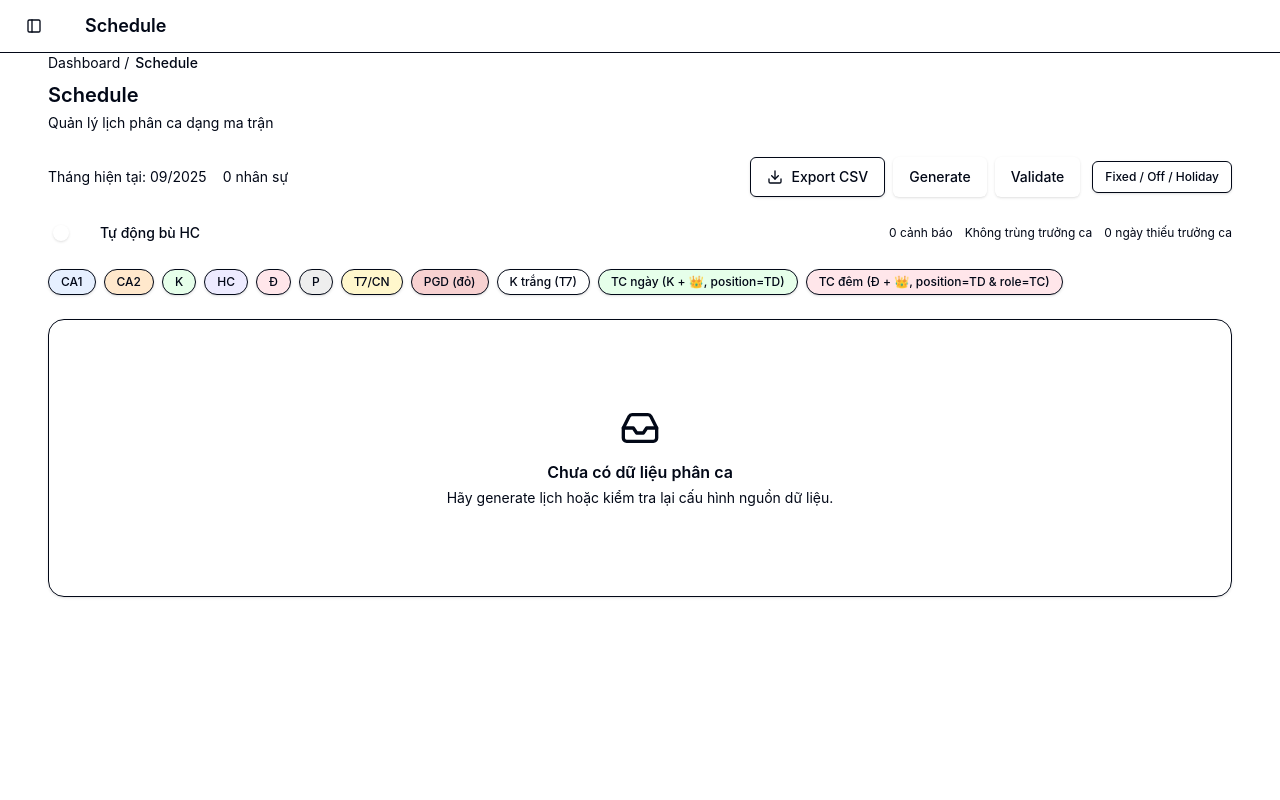
it: App schedule actions › shows destructive toast when generate fails
What coordinates should you click on to do the following:
click the button with test id "schedule-generate"
I would click on:
 (940, 177)
Its box is top-left (893, 157), bottom-right (987, 197).
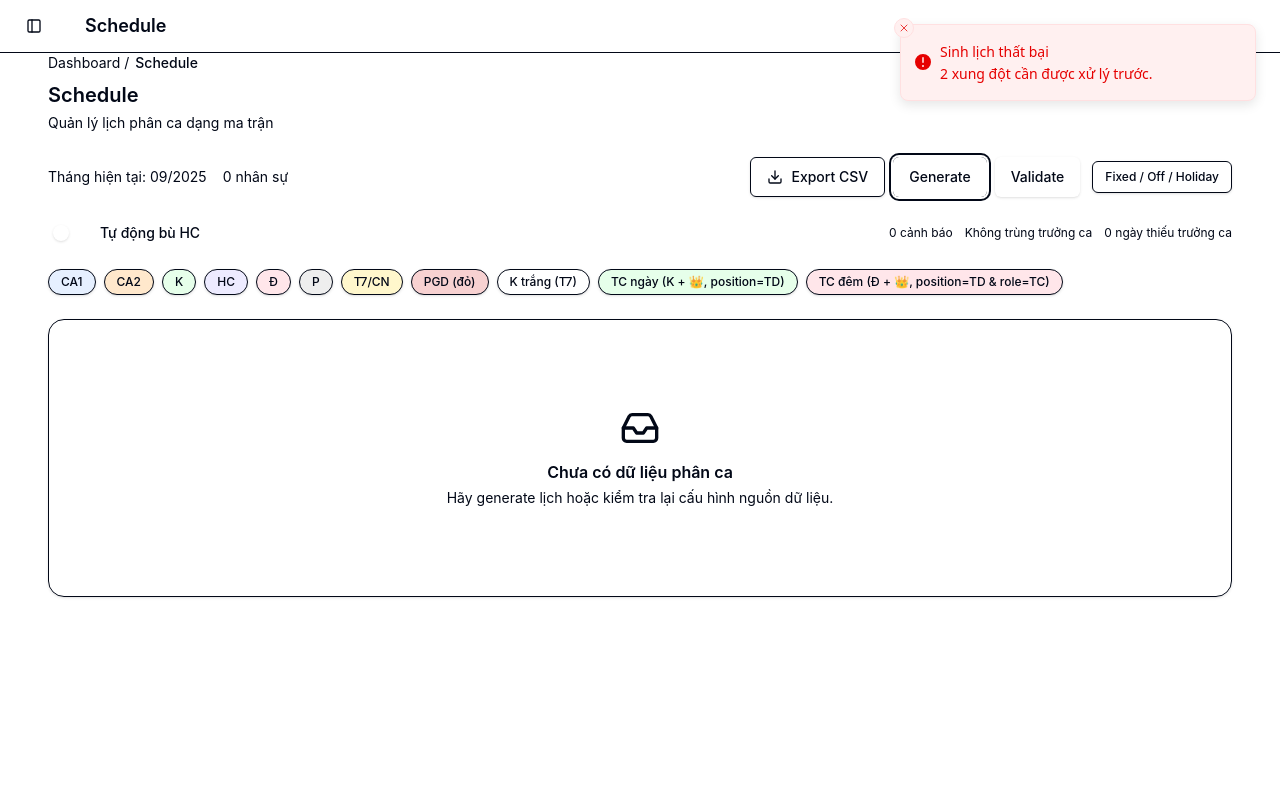
Result: the text "Sinh lịch thất bại" is shown at top-left (940, 42), bottom-right (1049, 61)
Result: the text "2 xung đột cần được xử lý trước." is shown at top-left (940, 64), bottom-right (1153, 84)
